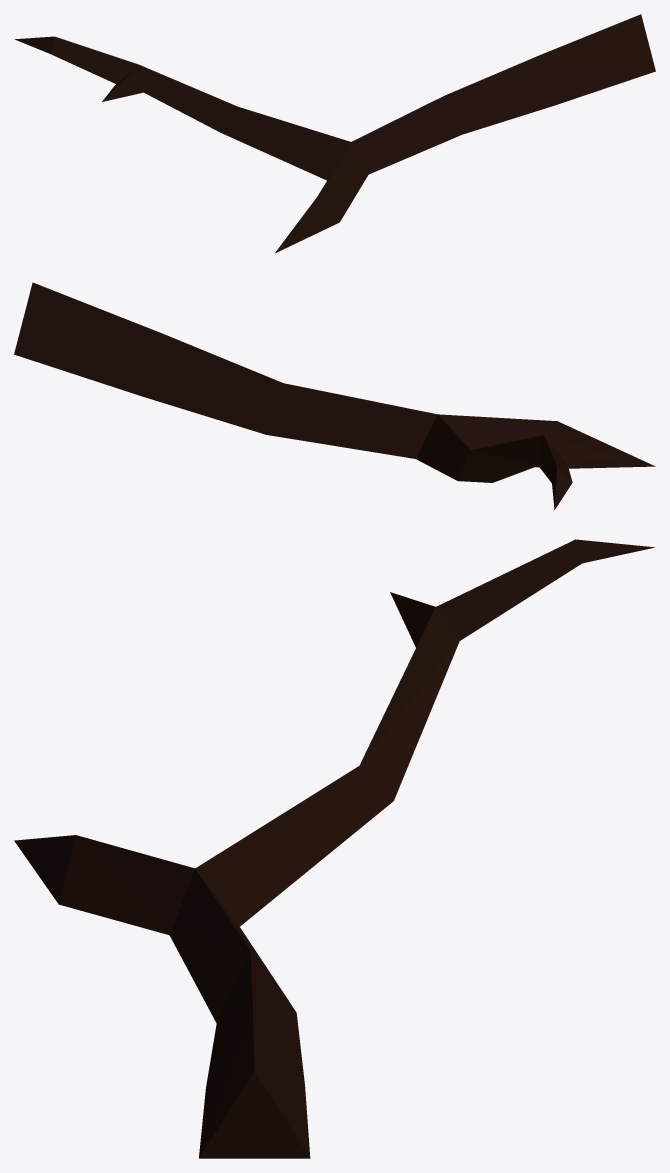
Rendered from PineBranch1.fbx.glb.
3 renders of one model, top to bottom at view 1: azimuth 30°, elevation 25°; view 2: azimuth 150°, elevation 25°; view 3: azimuth 270°, elevation 25°, orthographic. The views are drawn at different scales.
Parts seen in each view (by area): view 1: PineBranch1; view 2: PineBranch1; view 3: PineBranch1.
Boxes of the visible parts, x1,y1,x2,y2 form: PineBranch1: (15,14,655,253); PineBranch1: (14,282,655,509); PineBranch1: (14,539,655,1158).
Size of the model in its own units: 186 by 42.86 by 106.
